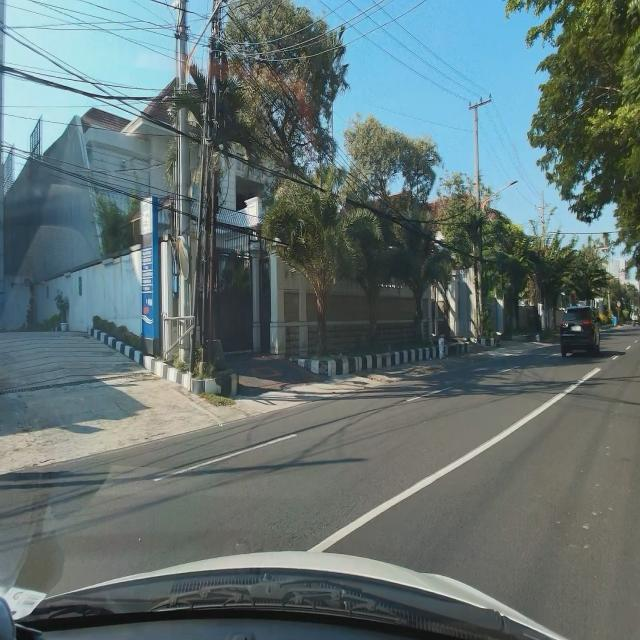car: (560, 307, 600, 357)
license-plate: (571, 326, 581, 332)
